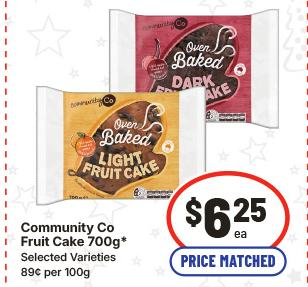description_block: (17, 219, 139, 250)
price_main: (166, 175, 293, 245)
product_image_block: (15, 3, 289, 189)
promo_text_block: (161, 244, 292, 277)
unit_price_block: (18, 263, 112, 283)
